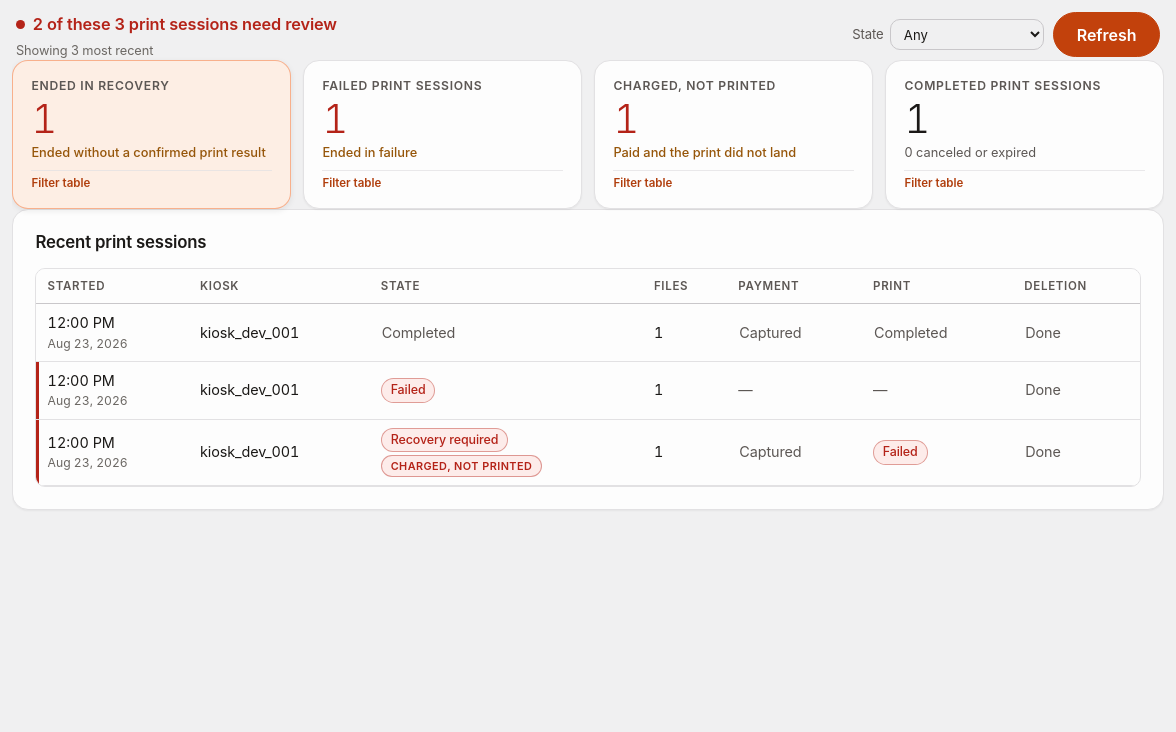
Scenario: the summary tiles › keeps every card, the returned rows, and the state dropdown synchronized
Click the button with aria-label "Failed print sessions: 1." at [402, 86], box [304,62,581,208]
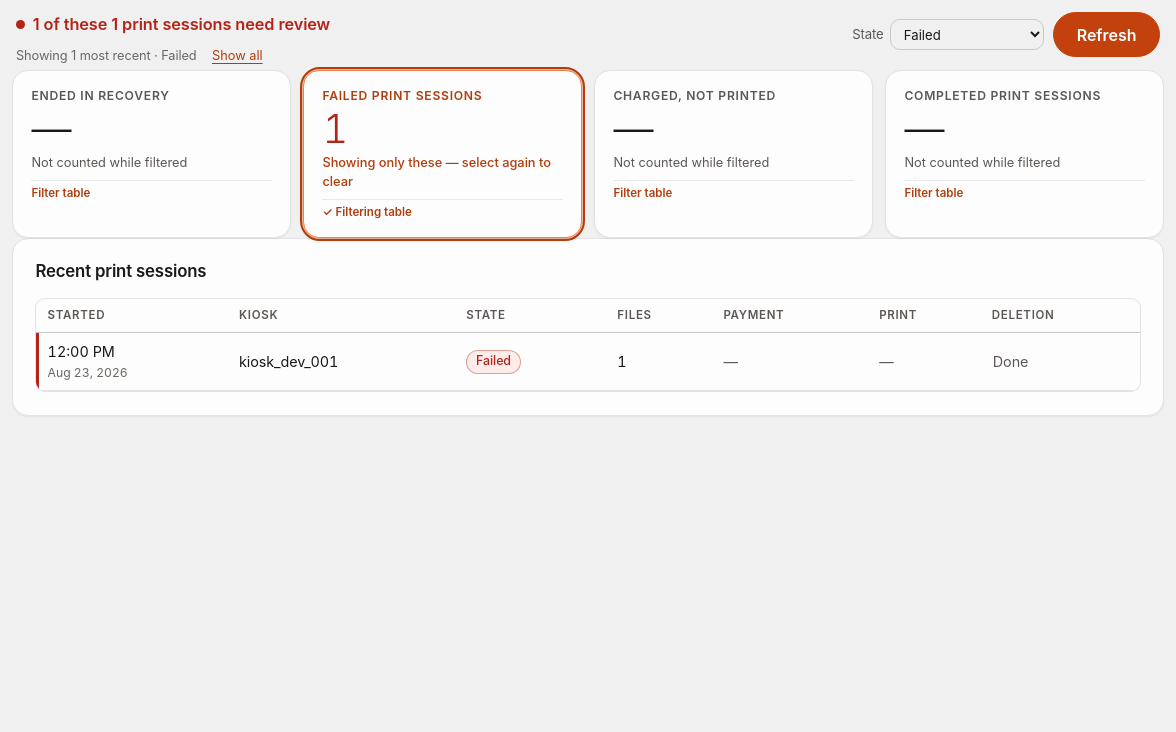
Expected: the dropdown labelled "State" shows "Failed", [890,19,1044,50]
Expected: the number of buttons named "Print session on " is 1, [48,342,217,382]
Click the button with aria-label "Ended in recovery:" at [101, 96], box [13,72,290,218]
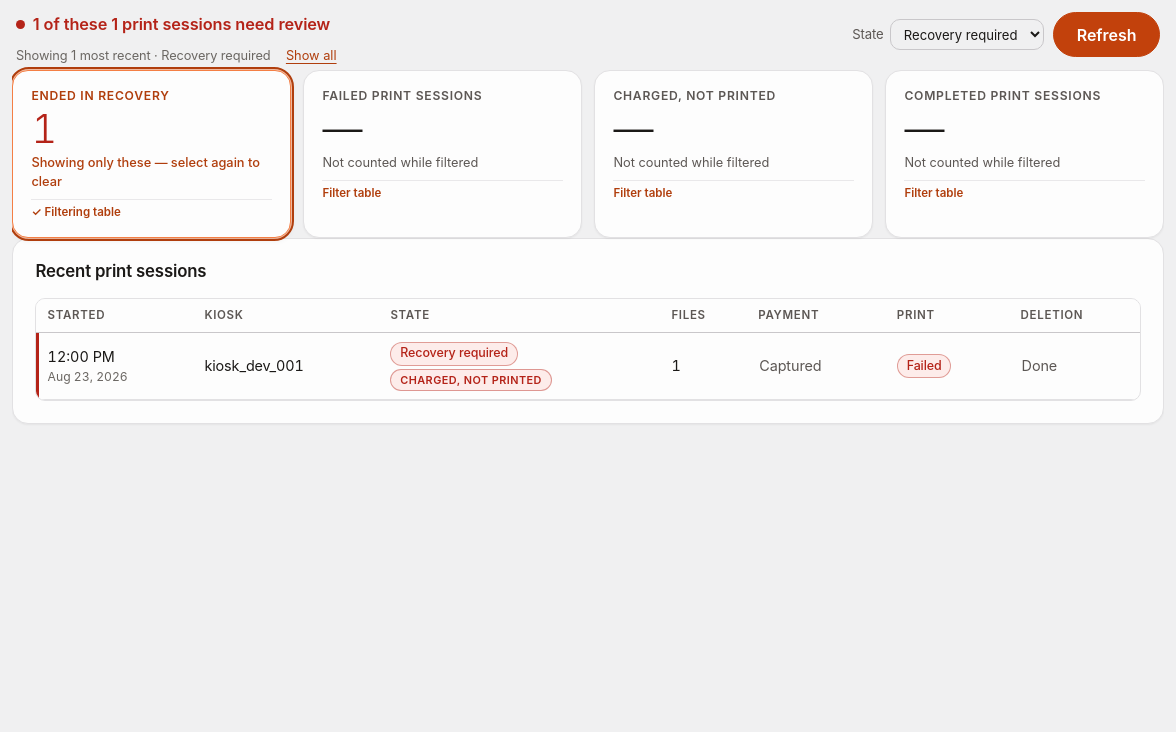
Expected: the number of buttons named "Print session on " is 1, [48,346,182,386]
Expected: the dropdown labelled "State" shows "Recovery required", [890,19,1044,50]
Click the button with aria-label "Completed print sessions:" at [1003, 96], box [886,72,1163,218]
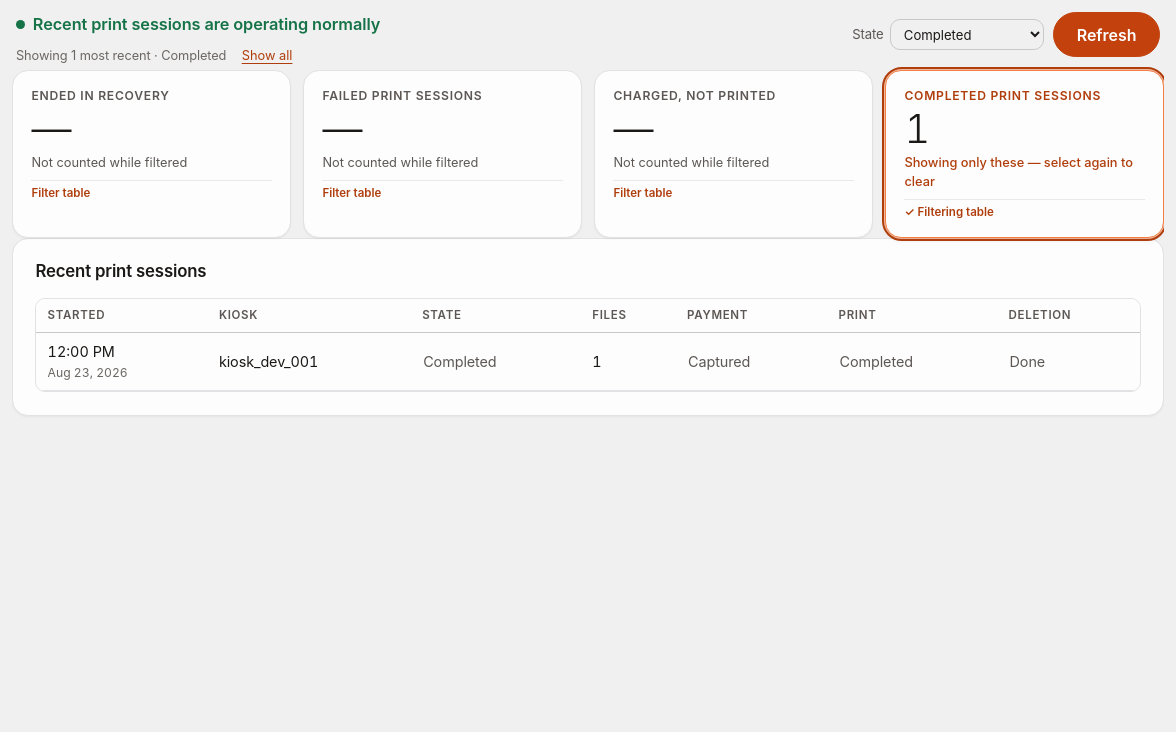
Expected: the number of buttons named "Print session on " is 1, [48,342,197,382]
Expected: the dropdown labelled "State" shows "Completed", [890,19,1044,50]
Click the button "Show all" at [267, 56], box [232,41,302,70]
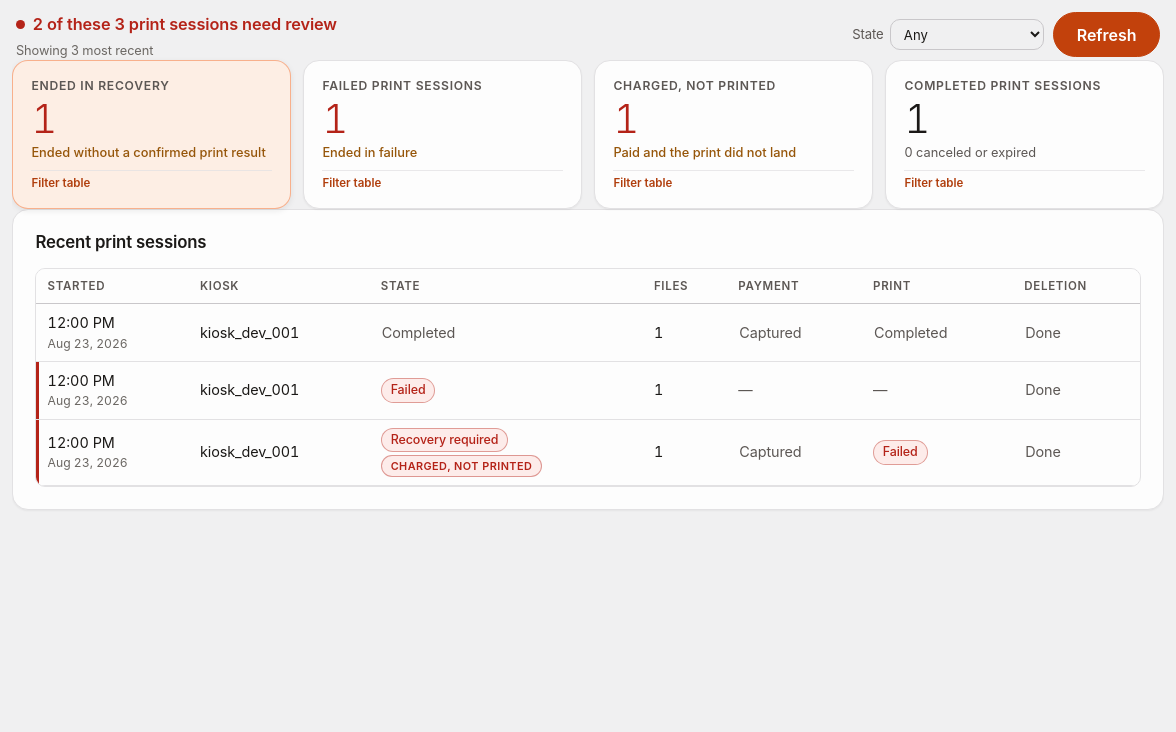
Expected: the dropdown labelled "State" shows "Any", [890,19,1044,50]
Expected: the number of buttons named "Print session on " is 3, [48,312,178,353]; [48,370,178,410]; [48,432,178,472]
